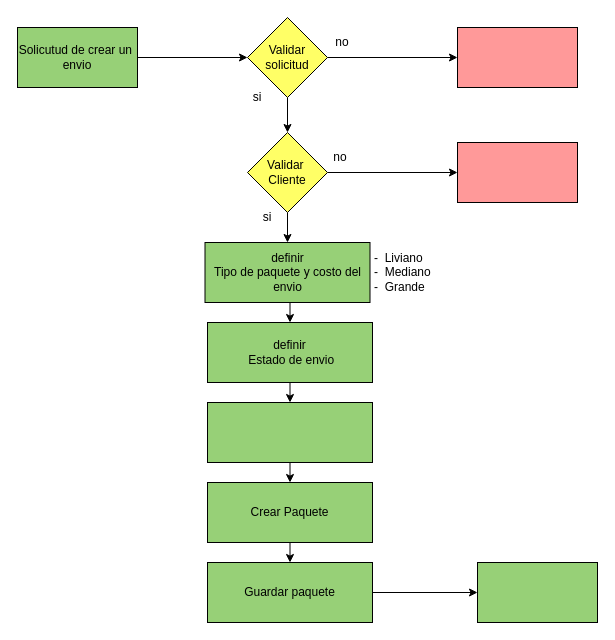
Image size: 615x640. Some labels were removed from this diagram. Each missing label, with the box of its shape:
definir Numero de guia: (206, 402, 372, 462)
Error 404: (456, 26, 578, 88)
Exception. (Cliente no existe): (456, 142, 578, 202)
Respuesta Numero de guia del paquete y Estado del envio: (476, 562, 598, 622)
